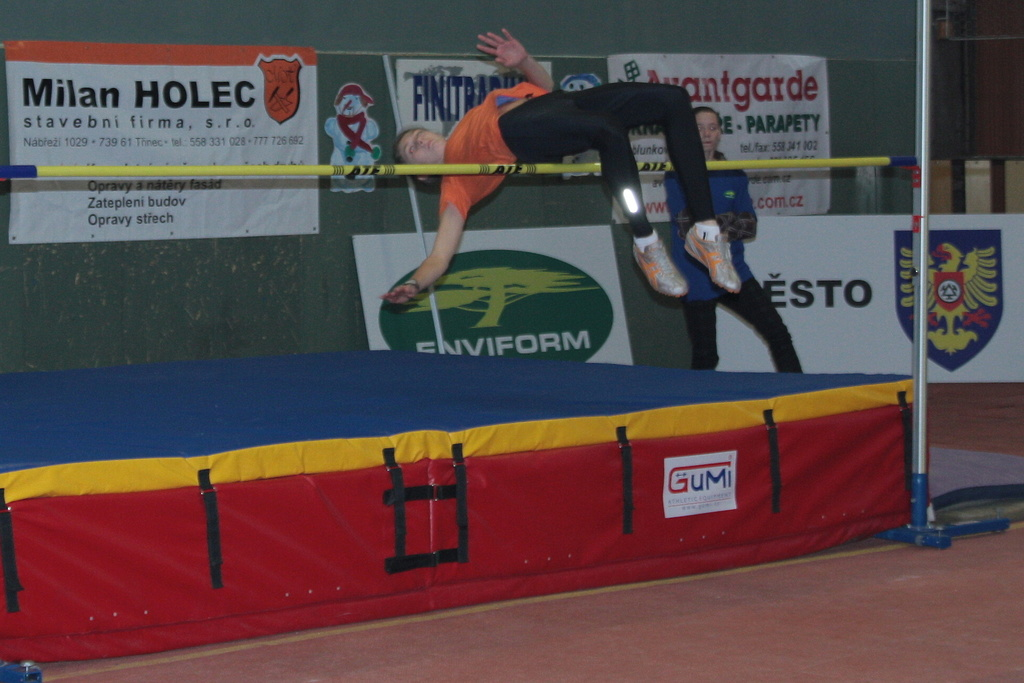Person: (380, 26, 742, 303), (664, 106, 802, 372)
